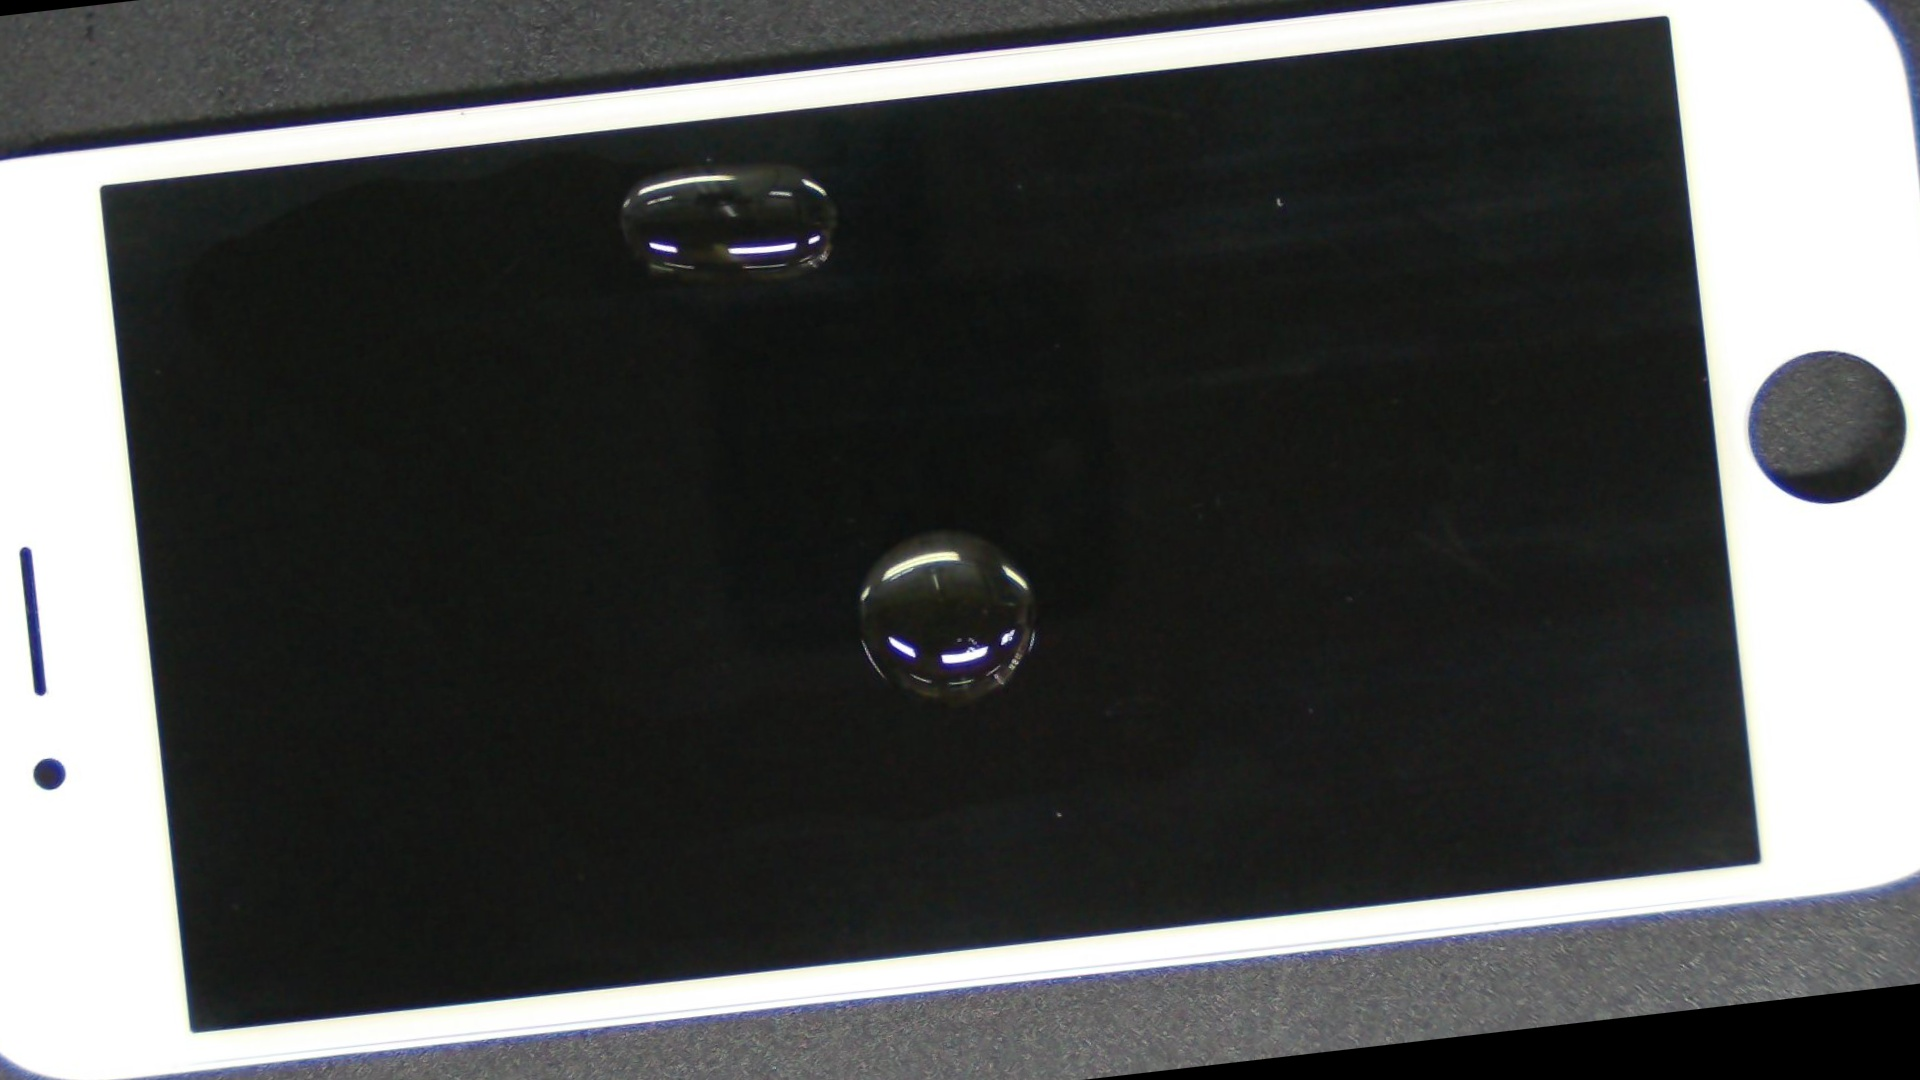oil: (335, 160, 1524, 902), (204, 3, 1133, 335)
